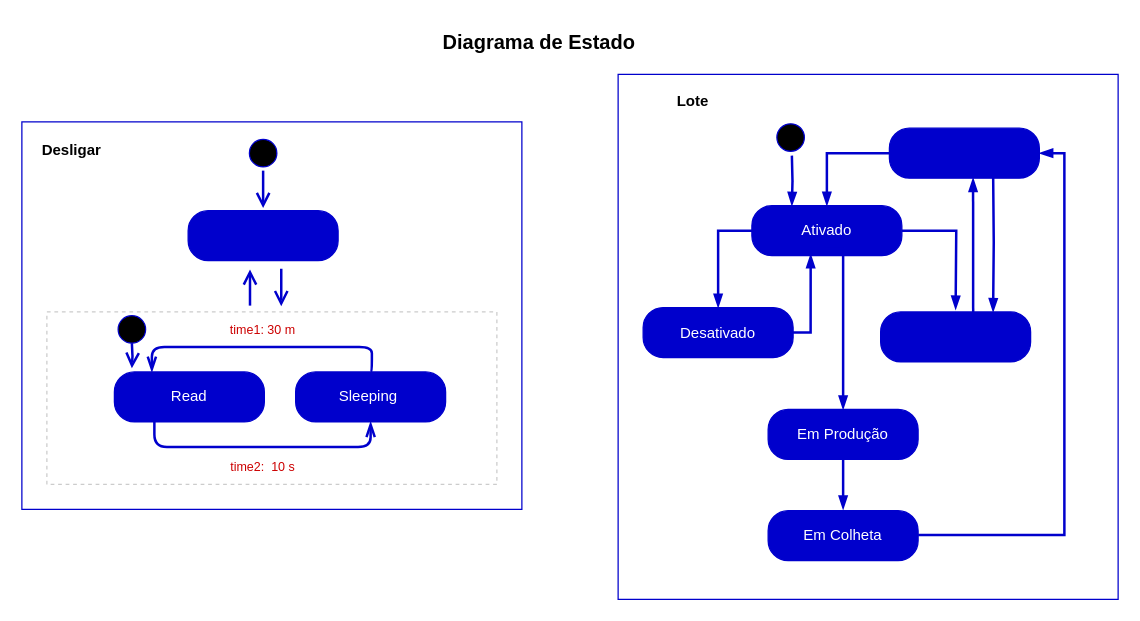
The diagram is 1140 pixels wide and 621 high, and some of its shapes have lost their labels. Each missing label, with the box of its shape:
Em análise: (888, 127, 1039, 178)
Em Quarentana: (879, 311, 1031, 362)
Off: (187, 209, 338, 261)
